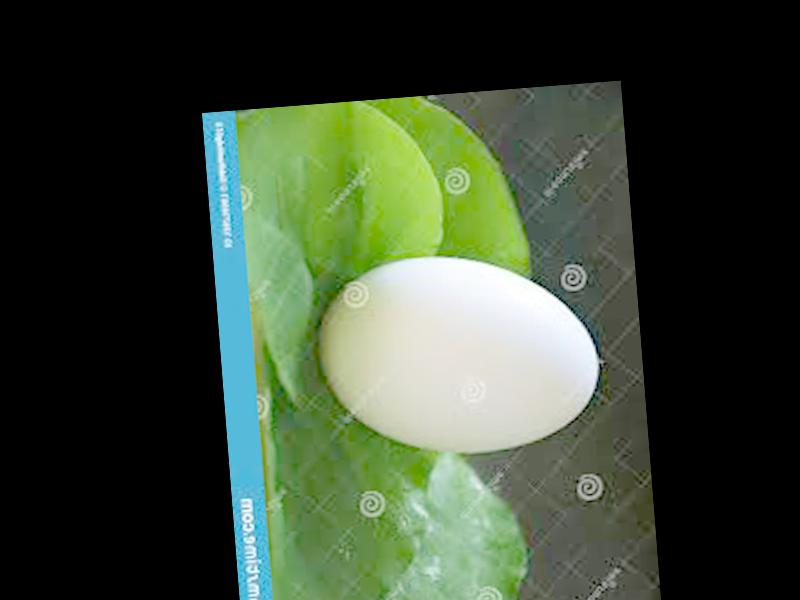Eggs: (314, 244, 604, 464)
